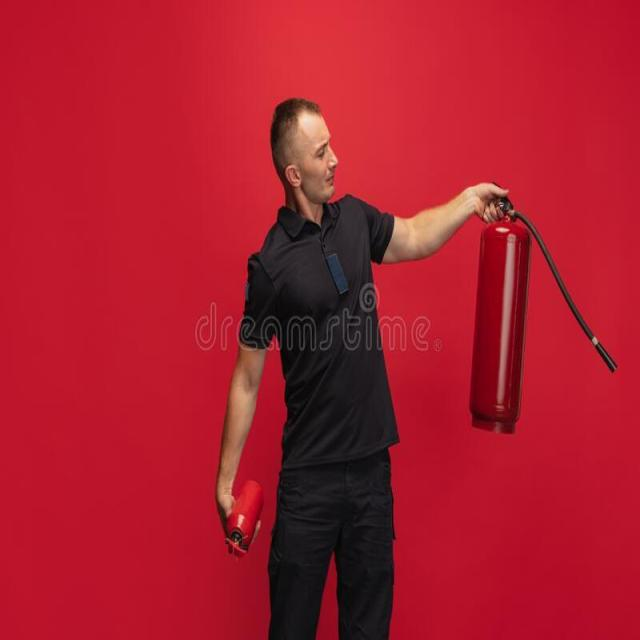fire_extinguisher: (462, 176, 624, 441), (219, 472, 270, 560)
